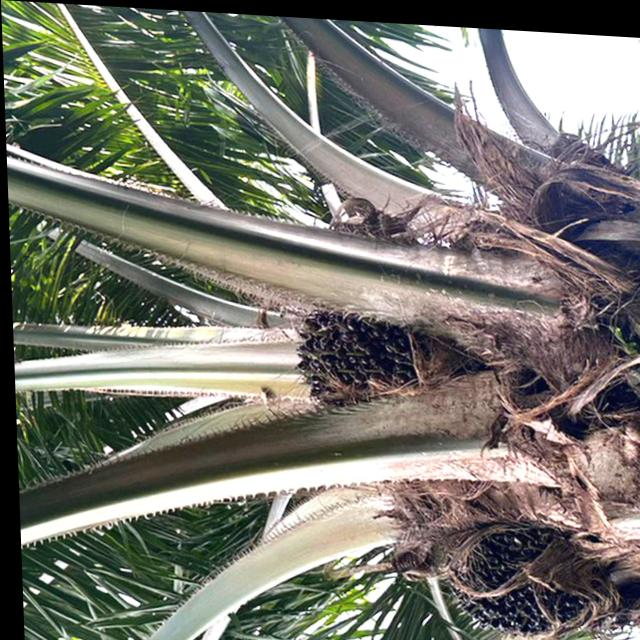ripe: (285, 283, 423, 414), (441, 516, 585, 633)
